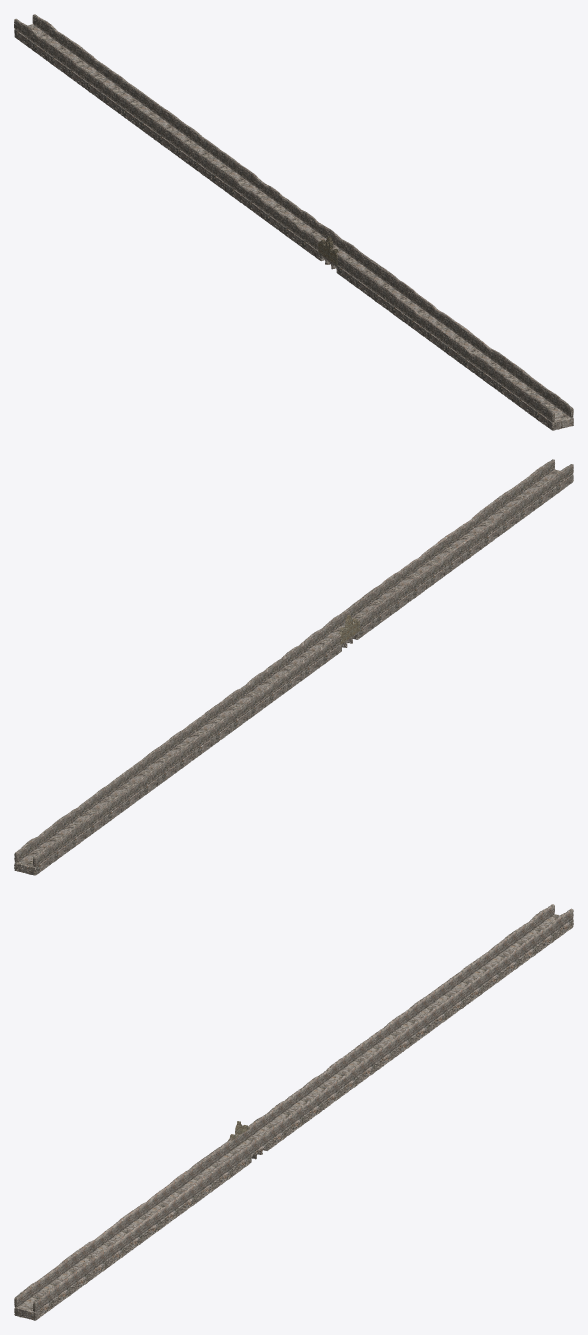
File: Compuerta_3.glb
3 renders of one model, top to bottom at view 1: azimuth 30°, elevation 25°; view 2: azimuth 150°, elevation 25°; view 3: azimuth 330°, elevation 25°, orthographic.
Visible parts, largest first — view 1: Puente, Cube, Cube.001; view 2: Puente, Cube, Cube.001; view 3: Puente, Cube, Cube.001.
Part boxes in pixels (box(x1,y1,x2,y2)): Puente: box(14, 24, 573, 430); Cube: box(32, 14, 573, 417); Cube.001: box(14, 18, 554, 422); Puente: box(14, 469, 573, 875); Cube: box(14, 459, 554, 862); Cube.001: box(33, 464, 573, 866); Puente: box(14, 914, 573, 1320); Cube: box(33, 908, 573, 1311); Cube.001: box(14, 904, 554, 1307).
Bounding box in the file's own units: 18.72 × 24.39 × 773.
4 materials, 4 textured.
